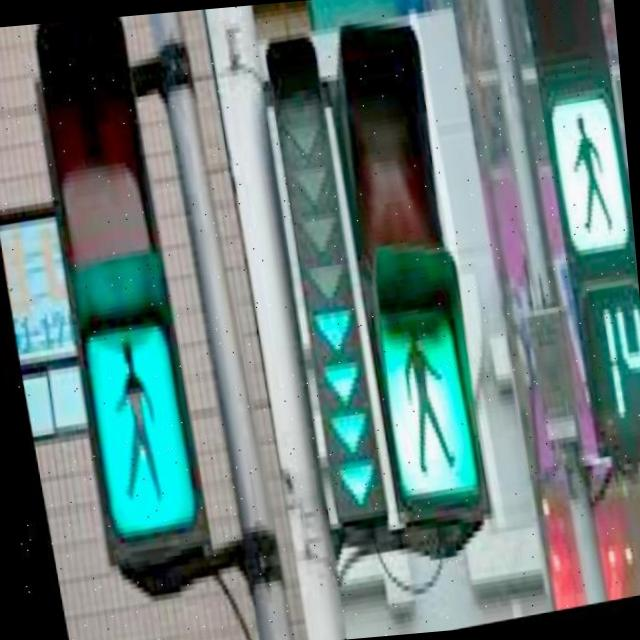green_light: (544, 115, 640, 445), (77, 330, 182, 530), (380, 328, 458, 501)
